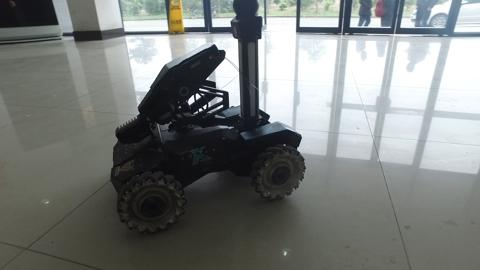car: (409, 1, 480, 28)
chariot: (109, 1, 306, 235)
